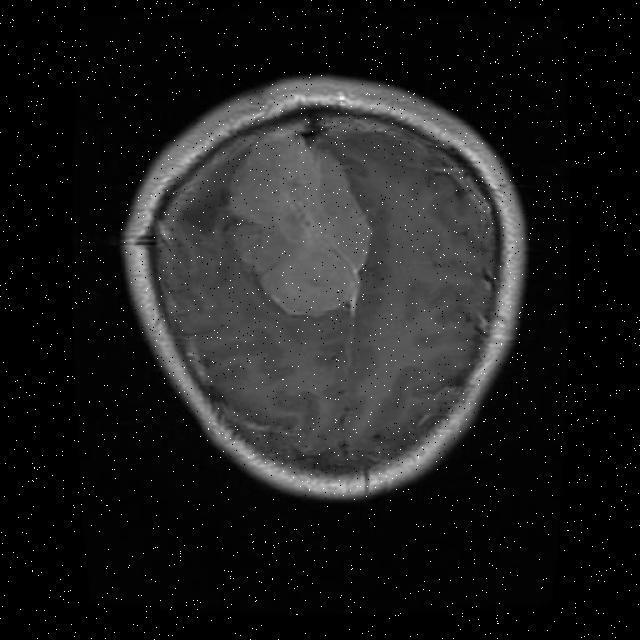Meningioma: (217, 125, 367, 317)
